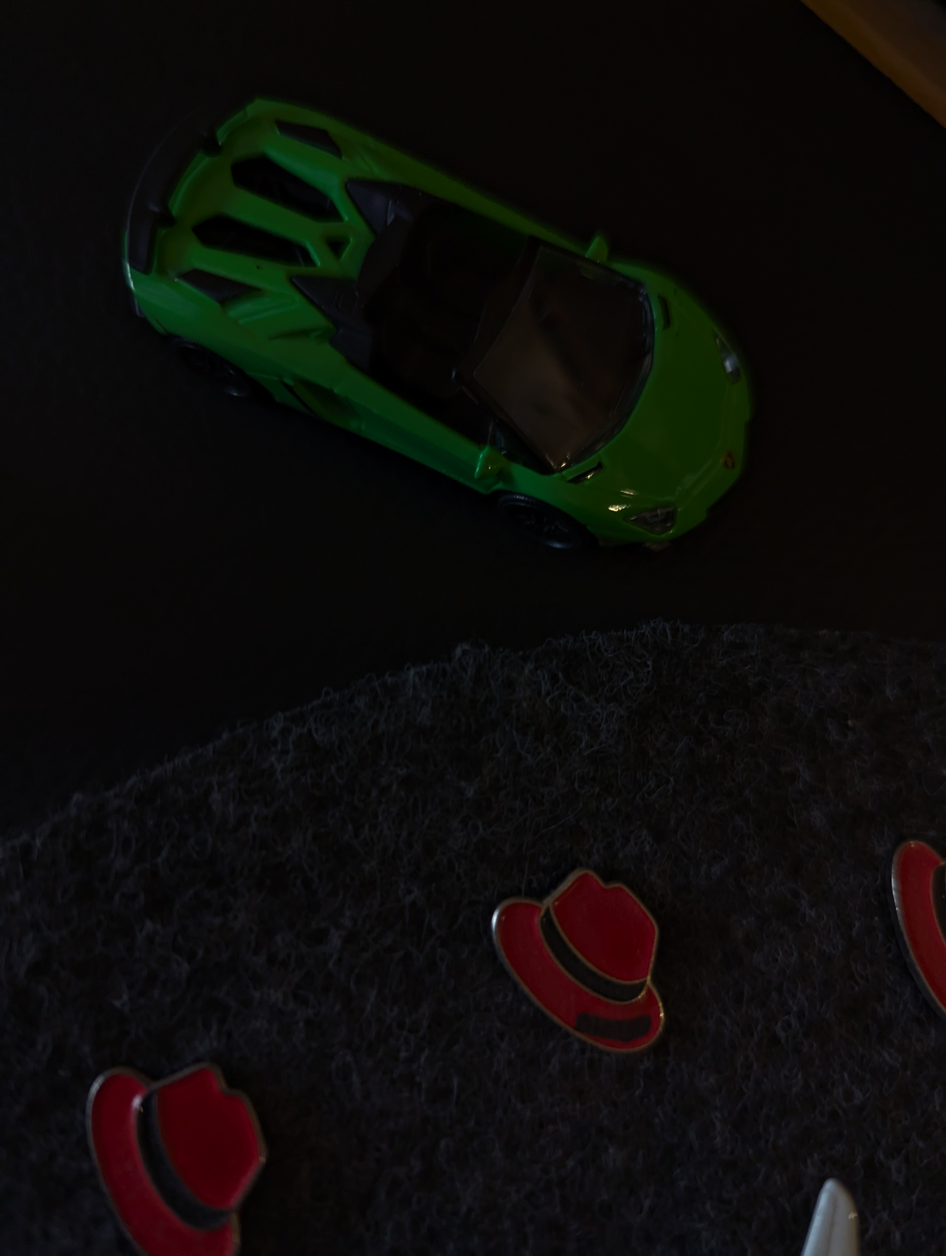Car: (91, 47, 776, 596)
Red-Hat: (458, 843, 693, 1085), (57, 1041, 293, 1256)
Scratch: (554, 1002, 679, 1054)
